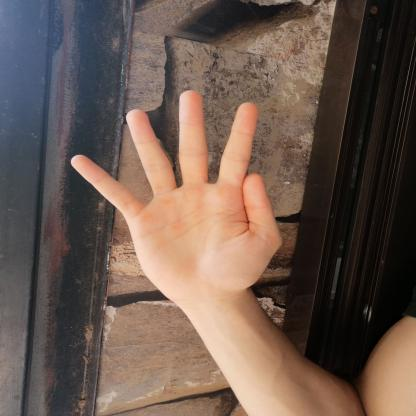SHEEN: (59, 78, 295, 310)
